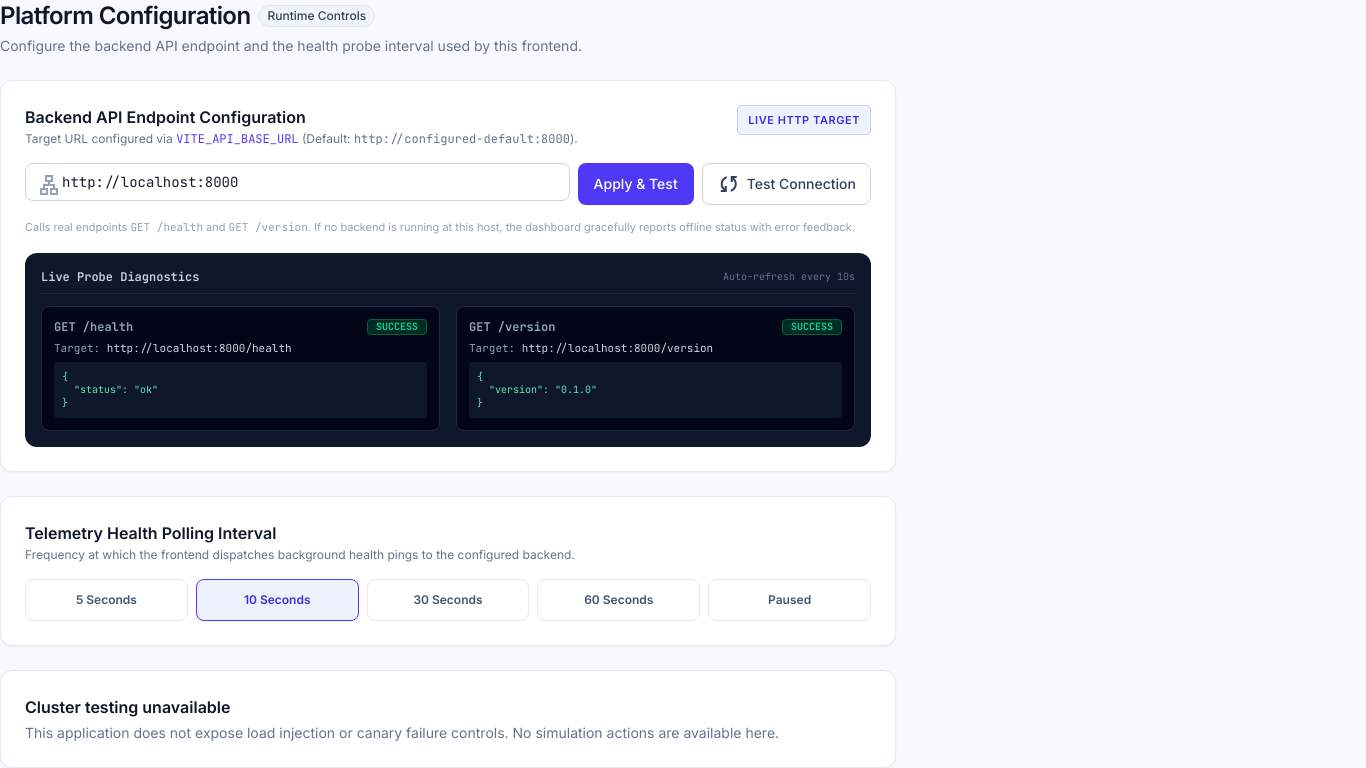
Test: SettingsPage › applies the entered API URL and describes the available settings accurately
Replace the text in the field named "Backend Base URL" with "http://api.internal:9000" at (297, 182), box [25, 163, 570, 201]
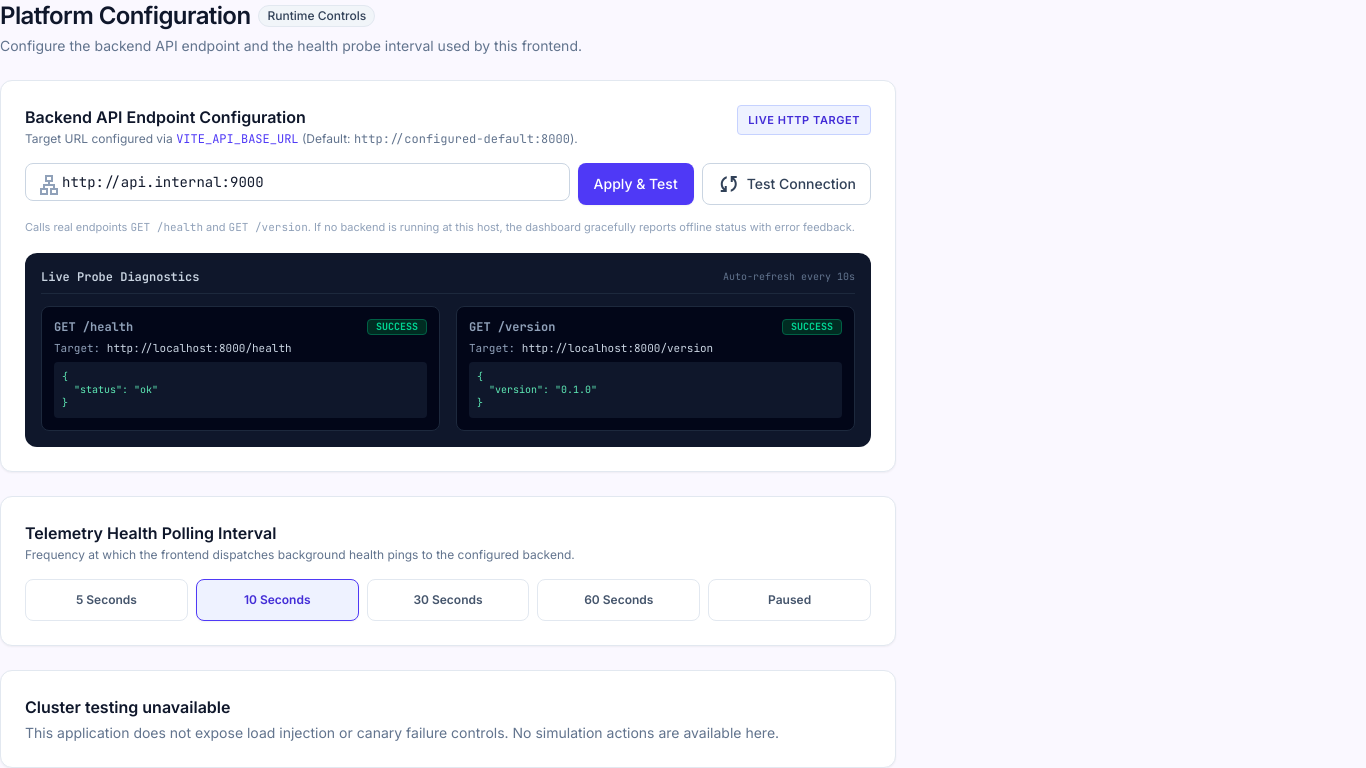
Click the button "Apply & Test" at (636, 184), box [578, 163, 694, 205]
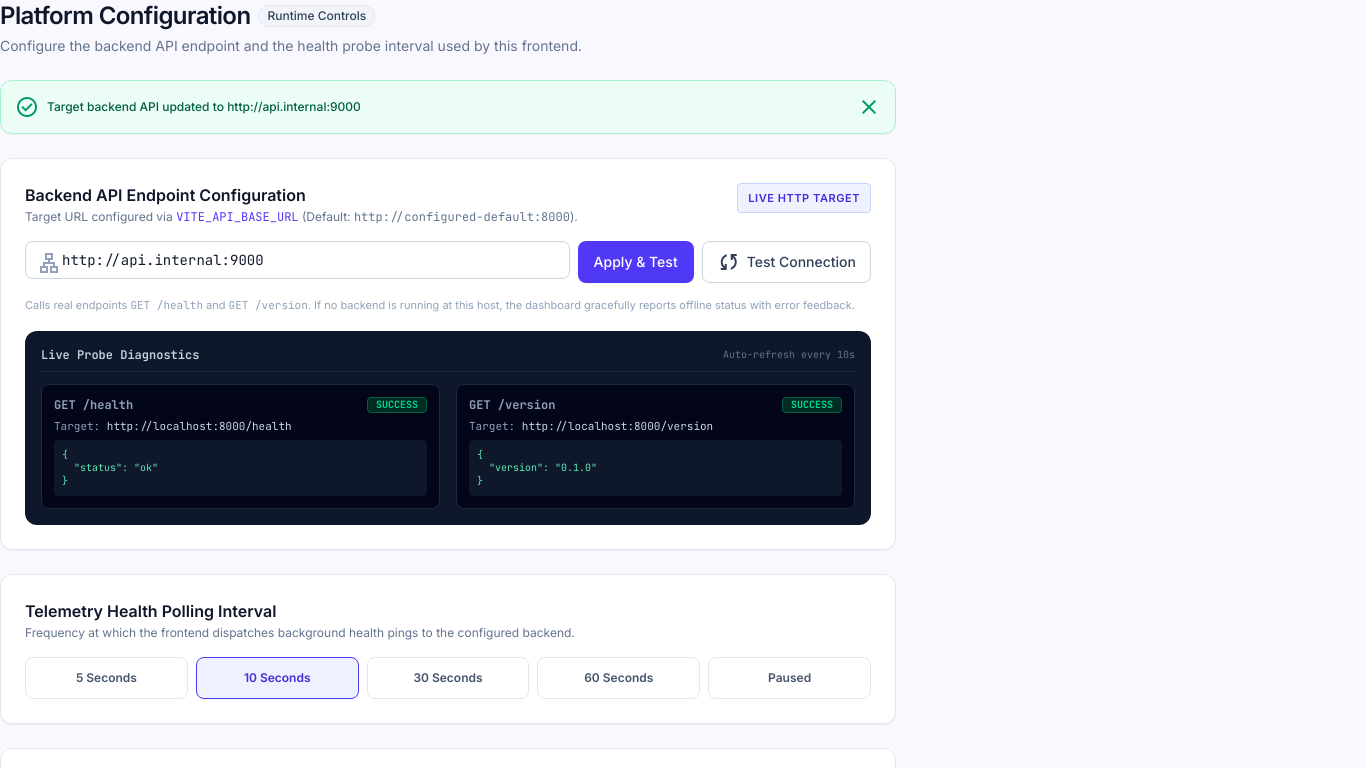
Check: the text "Target backend API updated to http://api.internal:9000" is shown, box [47, 99, 361, 115]
